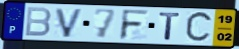7: (93, 8, 118, 41)
B: (24, 6, 53, 38)
C: (184, 10, 215, 45)
F: (118, 9, 150, 41)
T: (158, 11, 183, 41)
V: (54, 7, 85, 39)
